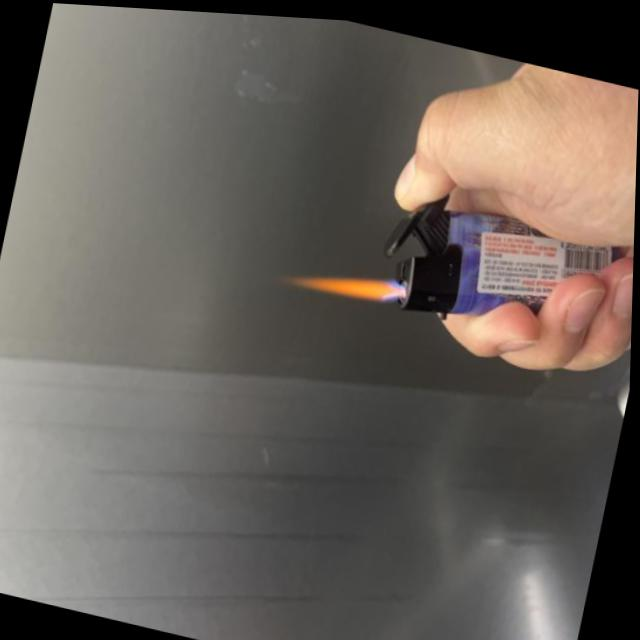Fire: (283, 248, 409, 305)
